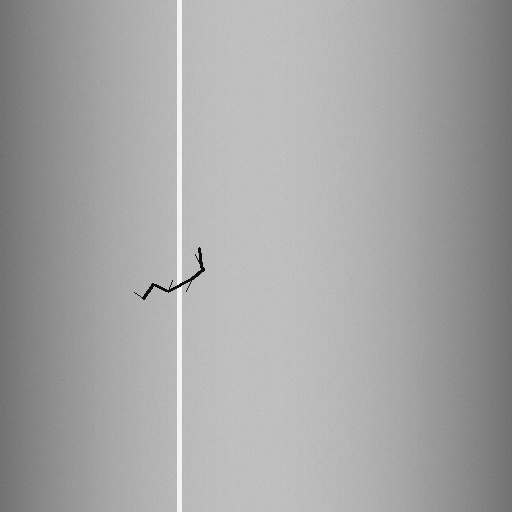crack: (130, 244, 207, 302)
